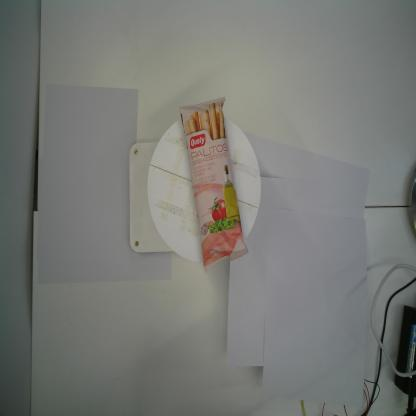Dessert: (178, 95, 249, 277)
